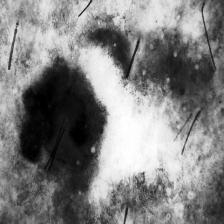Benign Marking or Mole: (12, 60, 114, 184)
